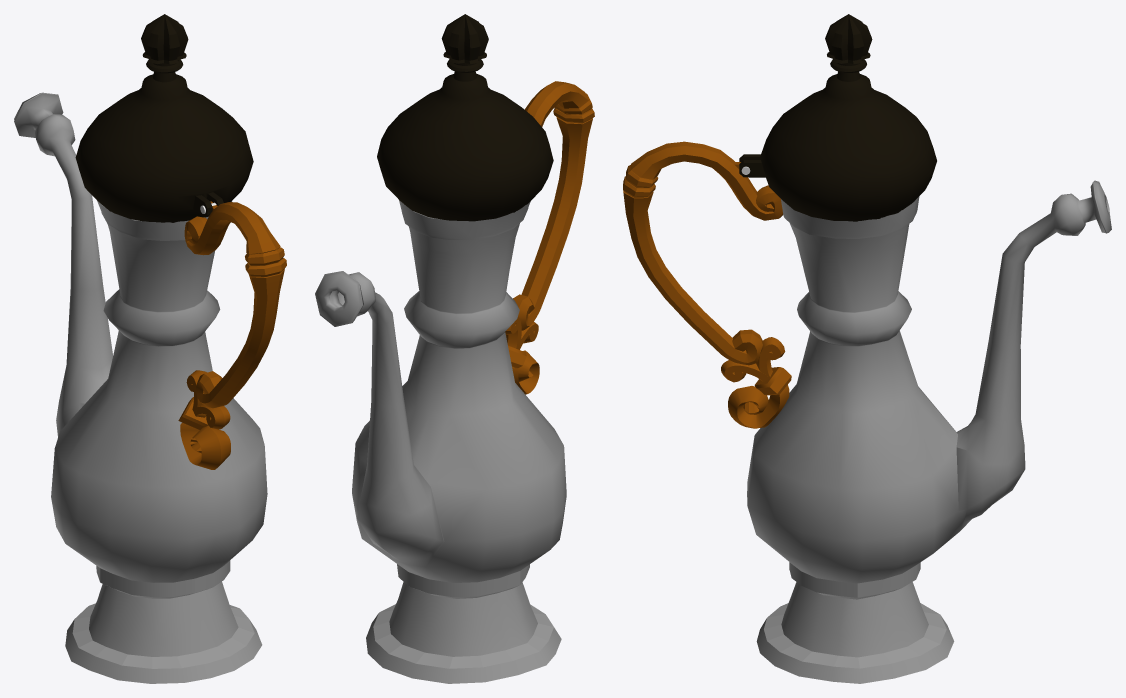
Rendered from Clutter_TEAPOT.FBX.
3 views of the same model, side by side, from view 1: azimuth 30°, elevation 25°; view 2: azimuth 150°, elevation 25°; view 3: azimuth 270°, elevation 25° (orthographic).
Visible parts, largest first — view 1: tea Pot, Sphere003, handle1, handle2; view 2: tea Pot, Sphere003, handle1, handle2; view 3: tea Pot, Sphere003, handle1, handle2.
Boxes of the visible parts, <box> form: tea Pot: <box>14,92,267,683</box>; Sphere003: <box>75,14,253,222</box>; handle1: <box>184,201,286,429</box>; handle2: <box>178,397,230,469</box>; tea Pot: <box>315,200,566,683</box>; Sphere003: <box>377,14,553,221</box>; handle1: <box>505,81,594,349</box>; handle2: <box>508,345,539,394</box>; tea Pot: <box>747,180,1111,683</box>; Sphere003: <box>739,14,936,221</box>; handle1: <box>623,141,785,382</box>; handle2: <box>728,367,791,428</box>.
Bounding box in the file's own units: 44.32 × 138 × 97.57.
